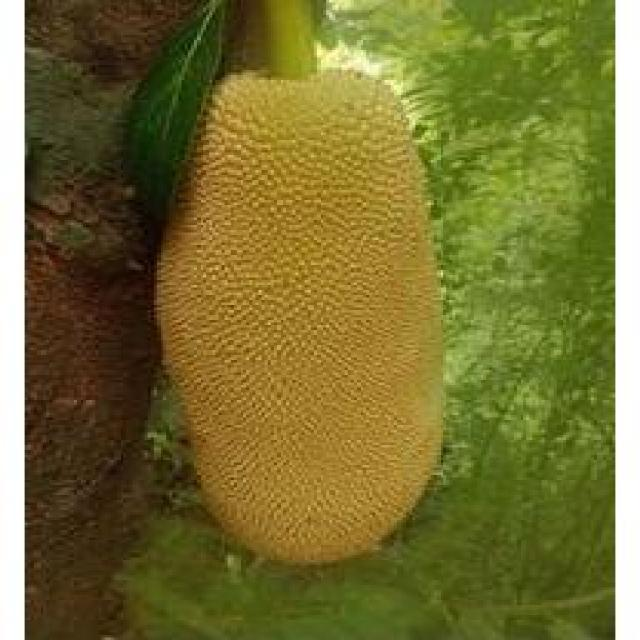Fruit: (123, 182, 495, 602)
